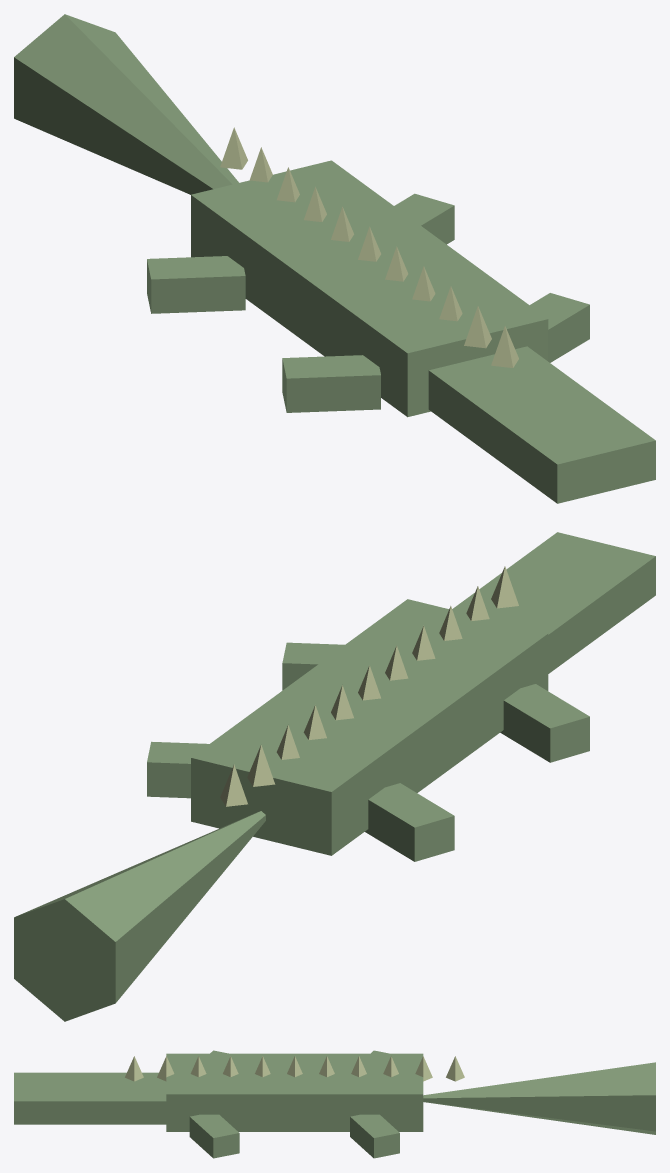
Rendered from alligator.glb.
The picture shows the model from 3 angles, top to bottom: view 1: azimuth 30°, elevation 25°; view 2: azimuth 150°, elevation 25°; view 3: azimuth 270°, elevation 25°; orthographic projection. The views are drawn at different scales.
Visible parts, largest first — view 1: Cube, Cube.001, Cone.011, Cube.003, Cube.002, Cube.004, Cube.005; view 2: Cube, Cone.011, Cube.001, Cube.003, Cube.002, Cube.005, Cube.004; view 3: Cube, Cone.011, Cube.001, Cube.004, Cube.005, Cone, Cone.010, Cone.001, Cone.009, Cone.005, Cone.002, Cone.004 (+4 smaller).
Boxes of the visible parts, box(x1,y1,x2,y2) form: Cube: box(191, 160, 548, 417); Cube.001: box(428, 346, 655, 503); Cone.011: box(14, 14, 238, 194); Cube.003: box(147, 256, 245, 313); Cube.002: box(282, 355, 380, 412); Cube.004: box(530, 293, 589, 362); Cube.005: box(394, 193, 454, 244); Cube: box(191, 599, 548, 855); Cone.011: box(14, 811, 265, 1021); Cube.001: box(452, 532, 655, 673); Cube.003: box(365, 783, 454, 861); Cube.002: box(500, 684, 589, 762); Cube.005: box(147, 741, 208, 798); Cube.004: box(282, 642, 344, 690); Cube: box(166, 1053, 423, 1131); Cone.011: box(423, 1062, 655, 1134); Cube.001: box(14, 1072, 166, 1124); Cube.004: box(189, 1114, 239, 1158); Cube.005: box(350, 1114, 399, 1158); Cone: box(125, 1056, 143, 1081); Cone.010: box(446, 1056, 464, 1081); Cone.001: box(157, 1056, 174, 1081); Cone.009: box(415, 1056, 432, 1081); Cone.005: box(287, 1056, 302, 1077); Cone.002: box(190, 1056, 206, 1077); Cone.004: box(255, 1056, 270, 1077).
Size of the model in its own units: 1.29 by 0.545 by 4.
